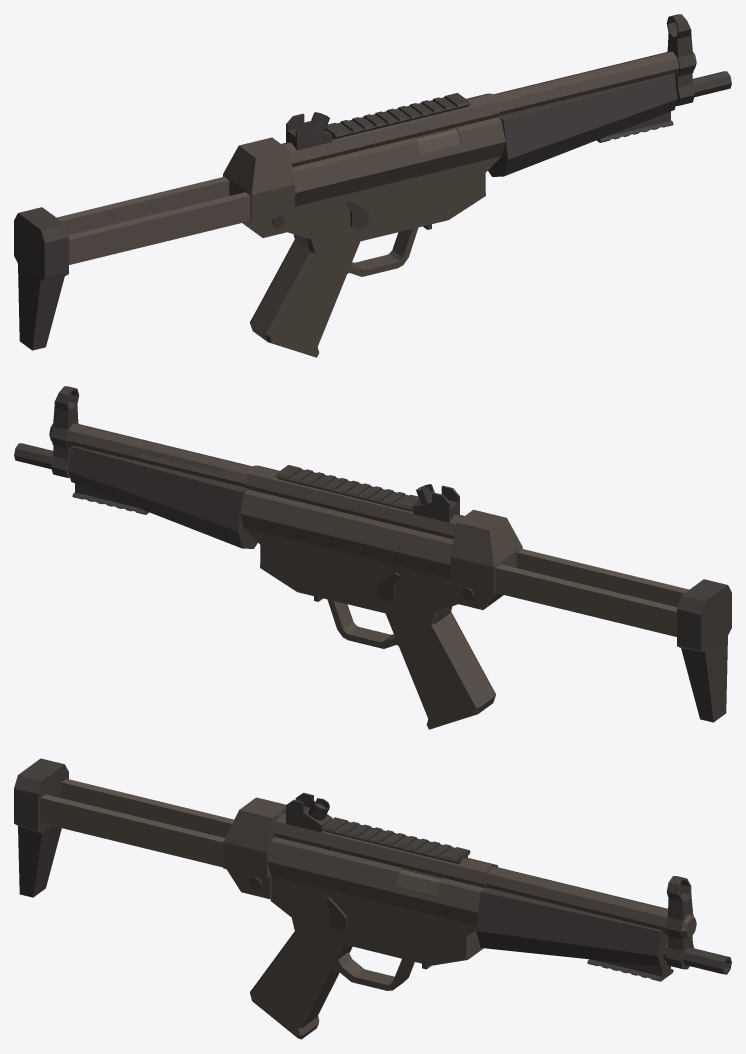
File: SMG2_03.fbx
3 views of the same model, one above another, from view 1: azimuth 30°, elevation 25°; view 2: azimuth 150°, elevation 25°; view 3: azimuth 330°, elevation 25° (orthographic).
Visible parts, largest first — view 1: SMG2_03; view 2: SMG2_03; view 3: SMG2_03.
Part boxes in pixels (x1,y1,x2,y2): SMG2_03: (14,14,731,357); SMG2_03: (14,386,731,729); SMG2_03: (14,758,731,1039).
Bounding box in the file's own units: 0.7164 × 0.2409 × 0.0566.
